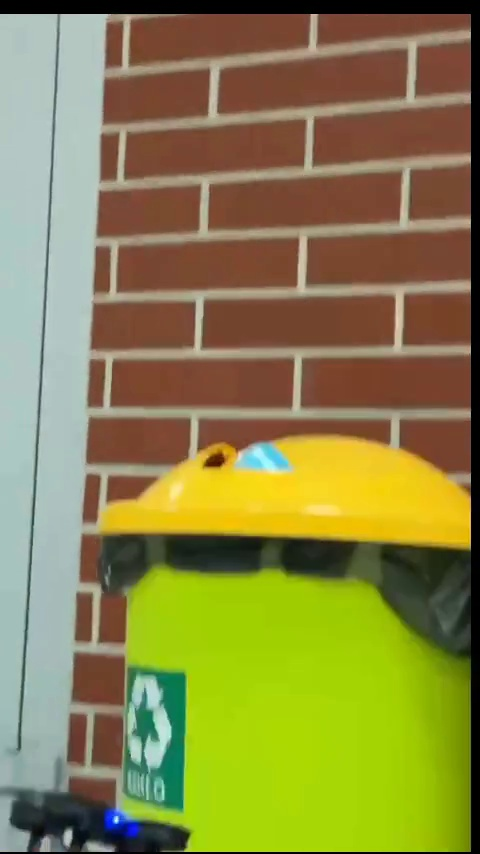drone: (8, 786, 195, 854)
